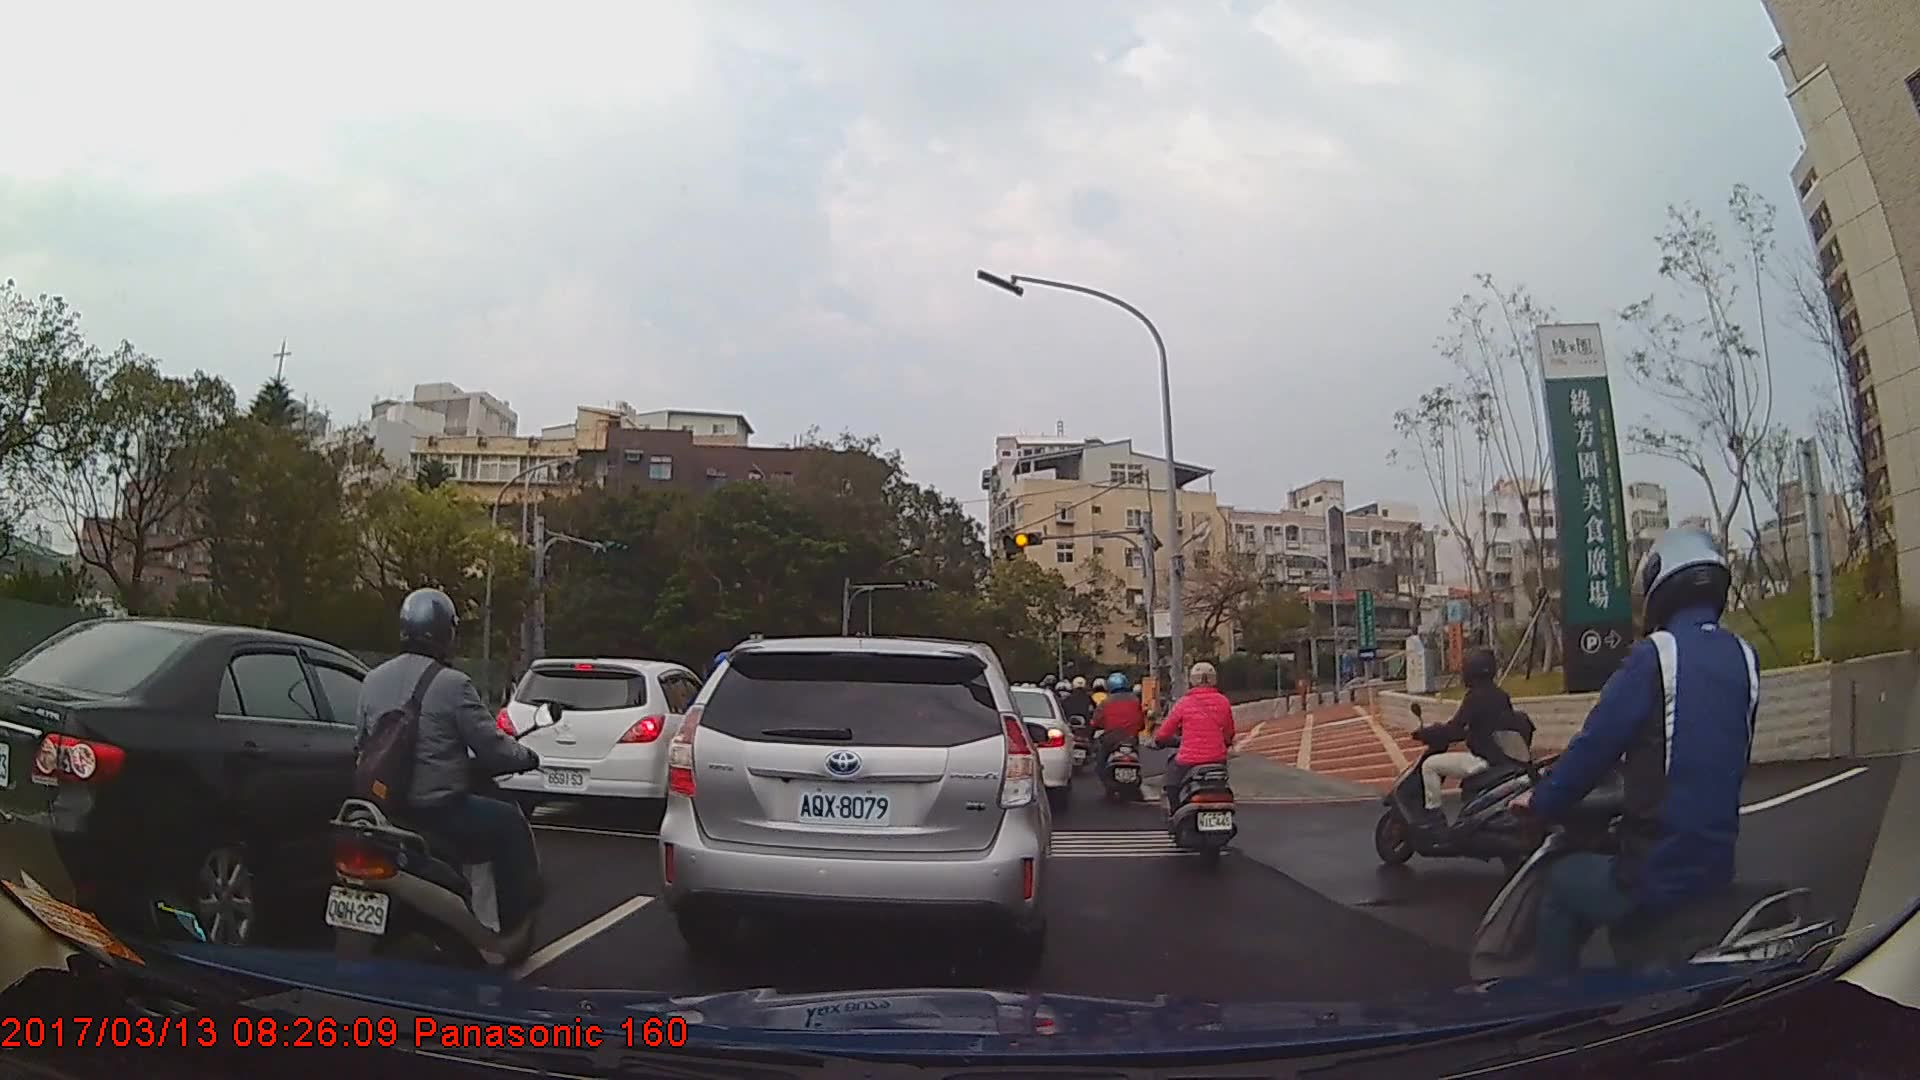pedestrian: (501, 672, 522, 729)
rider: (1465, 523, 1846, 1078), (322, 583, 545, 999), (1375, 651, 1567, 871), (1160, 658, 1239, 867), (1092, 669, 1152, 812), (1065, 674, 1104, 776)
vehicle: (0, 613, 497, 962), (656, 635, 1049, 965), (490, 657, 723, 828), (963, 686, 1075, 807)
